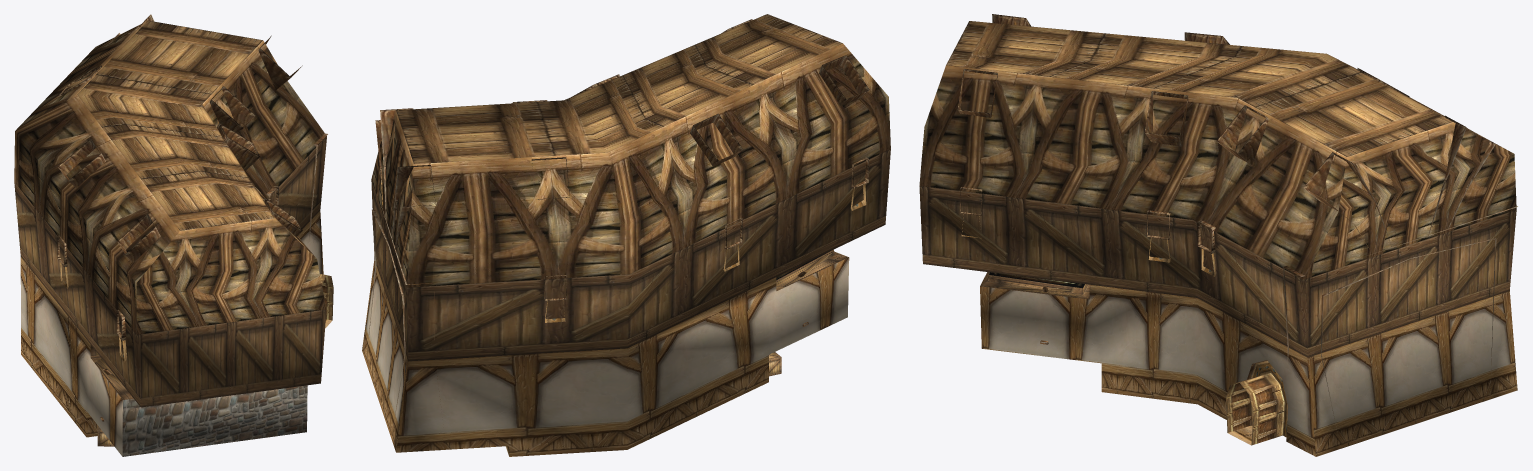
File: stormwind_247.fbx
3 views of the same model, side by side, from view 1: azimuth 30°, elevation 25°; view 2: azimuth 150°, elevation 25°; view 3: azimuth 270°, elevation 25° (orthographic). The views are drawn at different scales.
Visible parts, largest first — view 1: stormwind_247_49, stormwind_247_56, stormwind_247_55, stormwind_247_48, stormwind_247_38, stormwind_247_53, stormwind_247_10; view 2: stormwind_247_49, stormwind_247_48, stormwind_247_56, stormwind_247_55, stormwind_247_53; view 3: stormwind_247_49, stormwind_247_56, stormwind_247_48, stormwind_247_55, stormwind_247_53, stormwind_247_10.
Part boxes in pixels (x1,y1,x2,y2): stormwind_247_49: (14,21,326,334); stormwind_247_56: (14,137,326,407); stormwind_247_55: (77,20,274,230); stormwind_247_48: (20,211,323,456); stormwind_247_38: (122,385,307,456); stormwind_247_53: (57,14,327,421); stormwind_247_10: (320,274,333,320); stormwind_247_49: (371,43,890,287); stormwind_247_48: (362,257,849,456); stormwind_247_56: (371,149,890,361); stormwind_247_55: (396,14,842,163); stormwind_247_53: (366,19,869,456); stormwind_247_49: (919,55,1516,279); stormwind_247_56: (919,186,1516,357); stormwind_247_48: (980,284,1517,456); stormwind_247_55: (946,21,1452,156); stormwind_247_53: (957,14,1517,431); stormwind_247_10: (1226,360,1284,445).
Size of the model in its own units: 26.97 by 19.51 by 36.96.
